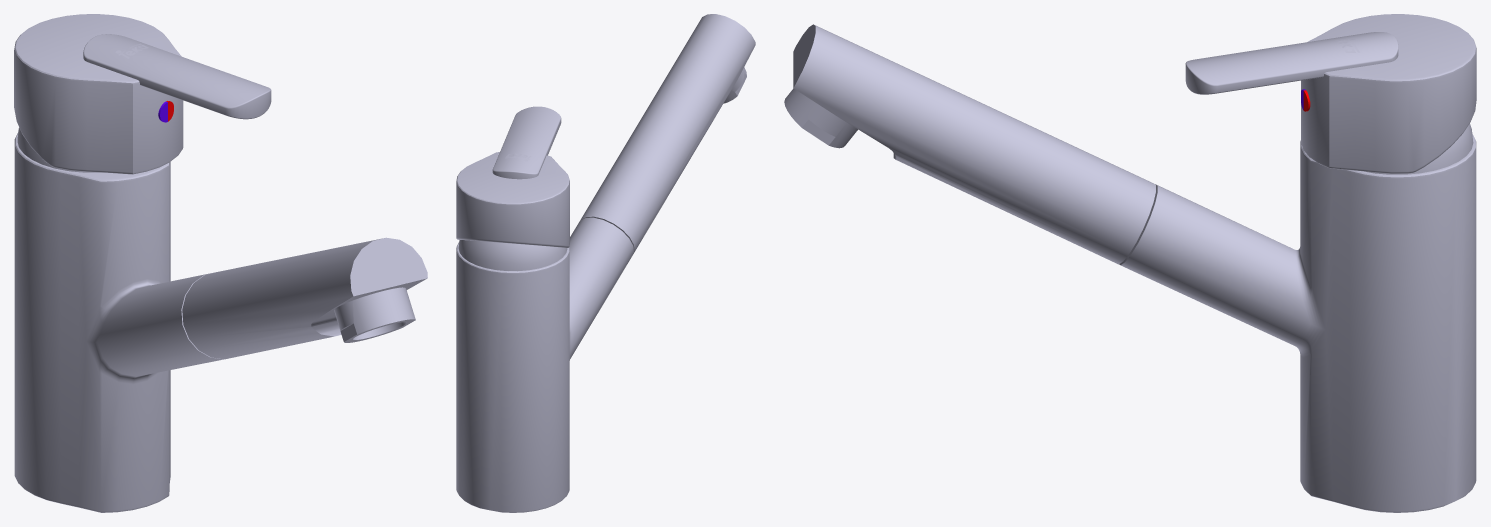
File: grifo.glb
3 renders of one model, left to right at view 1: azimuth 30°, elevation 25°; view 2: azimuth 150°, elevation 25°; view 3: azimuth 270°, elevation 25°, orthographic. The views are drawn at different scales.
Parts seen in each view (by area): view 1: grifo attila 1000; view 2: grifo attila 1000; view 3: grifo attila 1000.
Part boxes in pixels (x1=…): grifo attila 1000: x1=14, y1=14, x2=427, y2=512; grifo attila 1000: x1=456, y1=14, x2=755, y2=512; grifo attila 1000: x1=784, y1=14, x2=1476, y2=512.
Size of the model in its own units: 0.5664 by 1.56 by 2.17.
